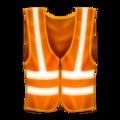safety vest: (23, 7, 97, 111)
